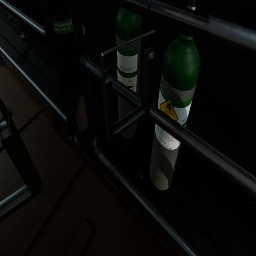0: (150, 0, 200, 190), (116, 7, 142, 138)
NitrogenTank ,: (46, 0, 93, 133)
